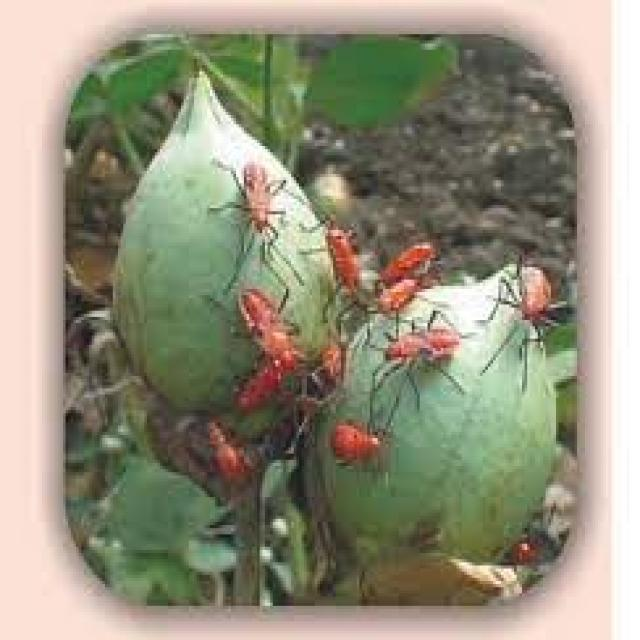Rust: (210, 150, 562, 490)
